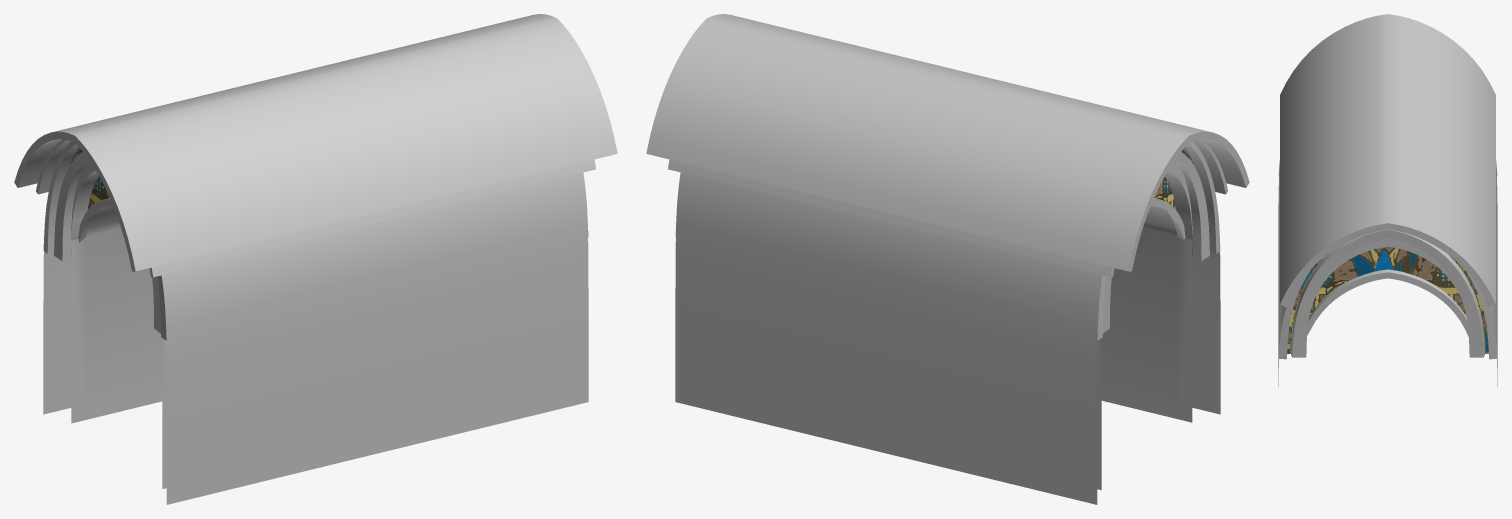
File: SM_Arc_02.fbx
The picture shows the model from 3 angles, left to right: view 1: azimuth 30°, elevation 25°; view 2: azimuth 150°, elevation 25°; view 3: azimuth 270°, elevation 25°; orthographic projection. The views are drawn at different scales.
Visible parts, largest first — view 1: SM_Arc_02_LOD0; view 2: SM_Arc_02_LOD0; view 3: SM_Arc_02_LOD0.
Part boxes in pixels (x1,y1,x2,y2): SM_Arc_02_LOD0: (14, 14, 617, 504); SM_Arc_02_LOD0: (646, 14, 1249, 504); SM_Arc_02_LOD0: (1278, 14, 1497, 386).
Size of the model in its own units: 1358 by 602 by 892.
